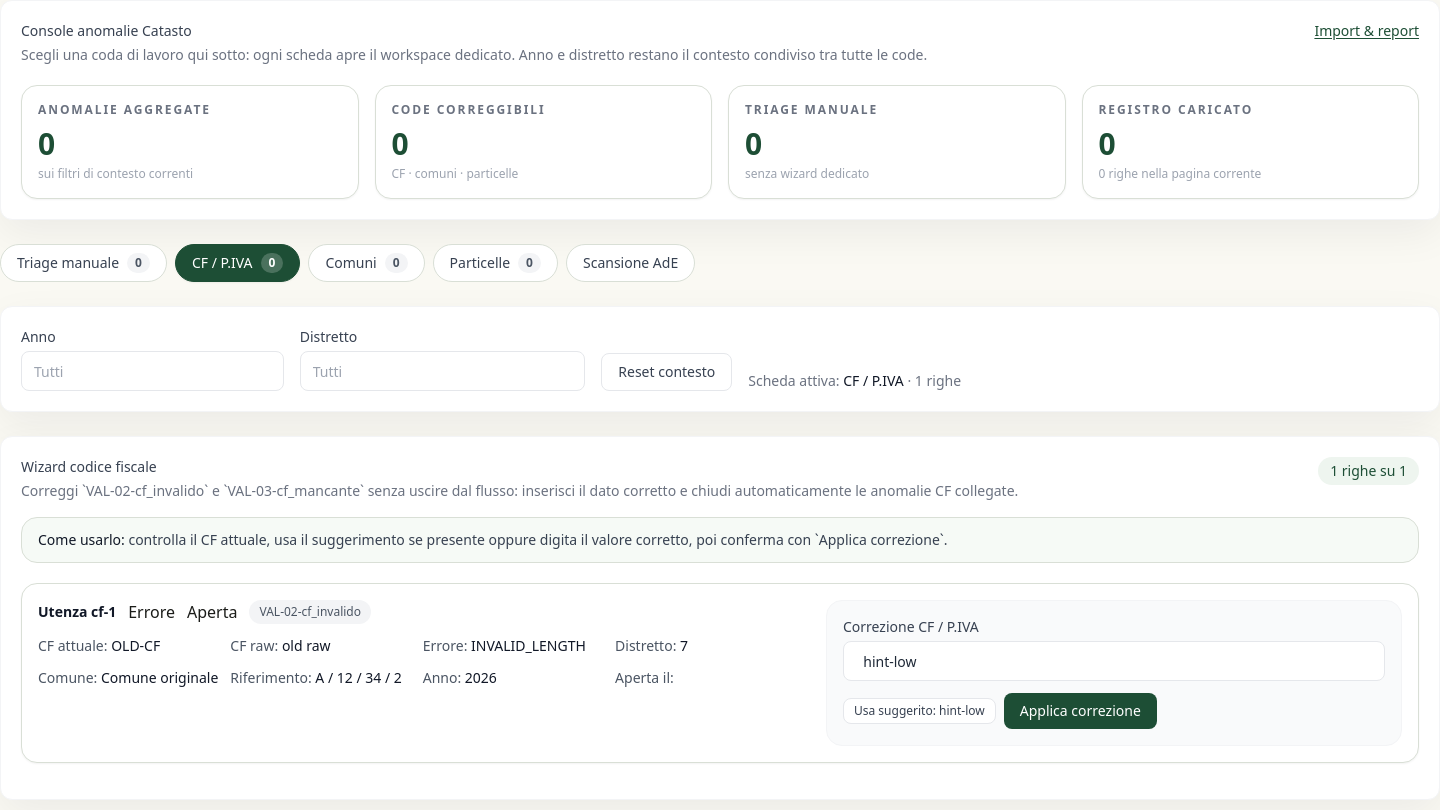
Scenario: R17 original Catasto CF wizard public transitions › uppercases typed edits, restores the raw suggestion on selection and normalizes the literal apply payload
Check: the text "Utenza cf-1" is shown, box left=38, top=602, right=116, bottom=622
Check: the button "Reset contesto" is enabled, box left=601, top=353, right=732, bottom=391
Replace the text in the field labelled "Correzione CF / P.IVA" with "  typed-low  " at (1114, 661), box left=843, top=641, right=1385, bottom=681
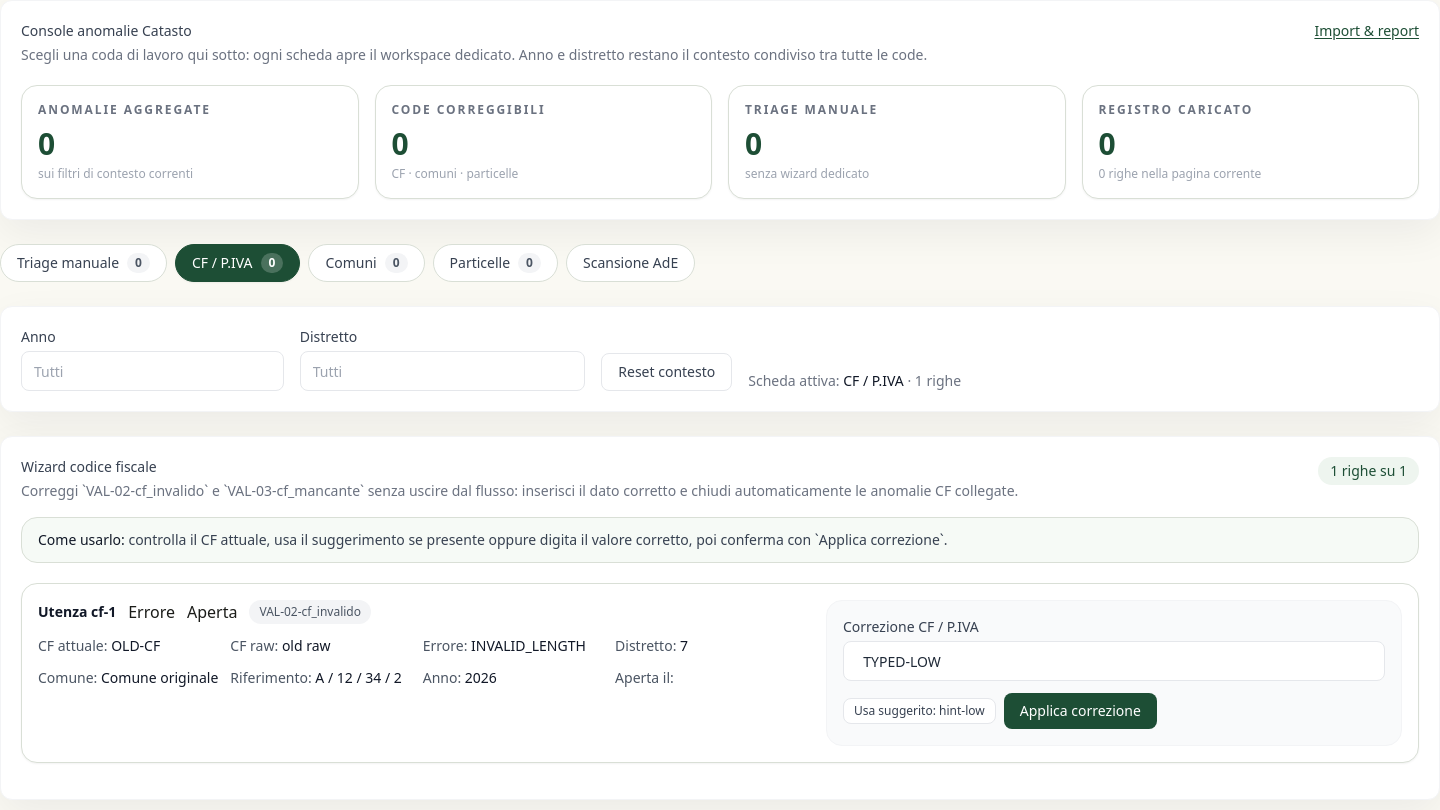
Click the button "Usa suggerito: hint-low" at (919, 711), box left=843, top=698, right=996, bottom=724
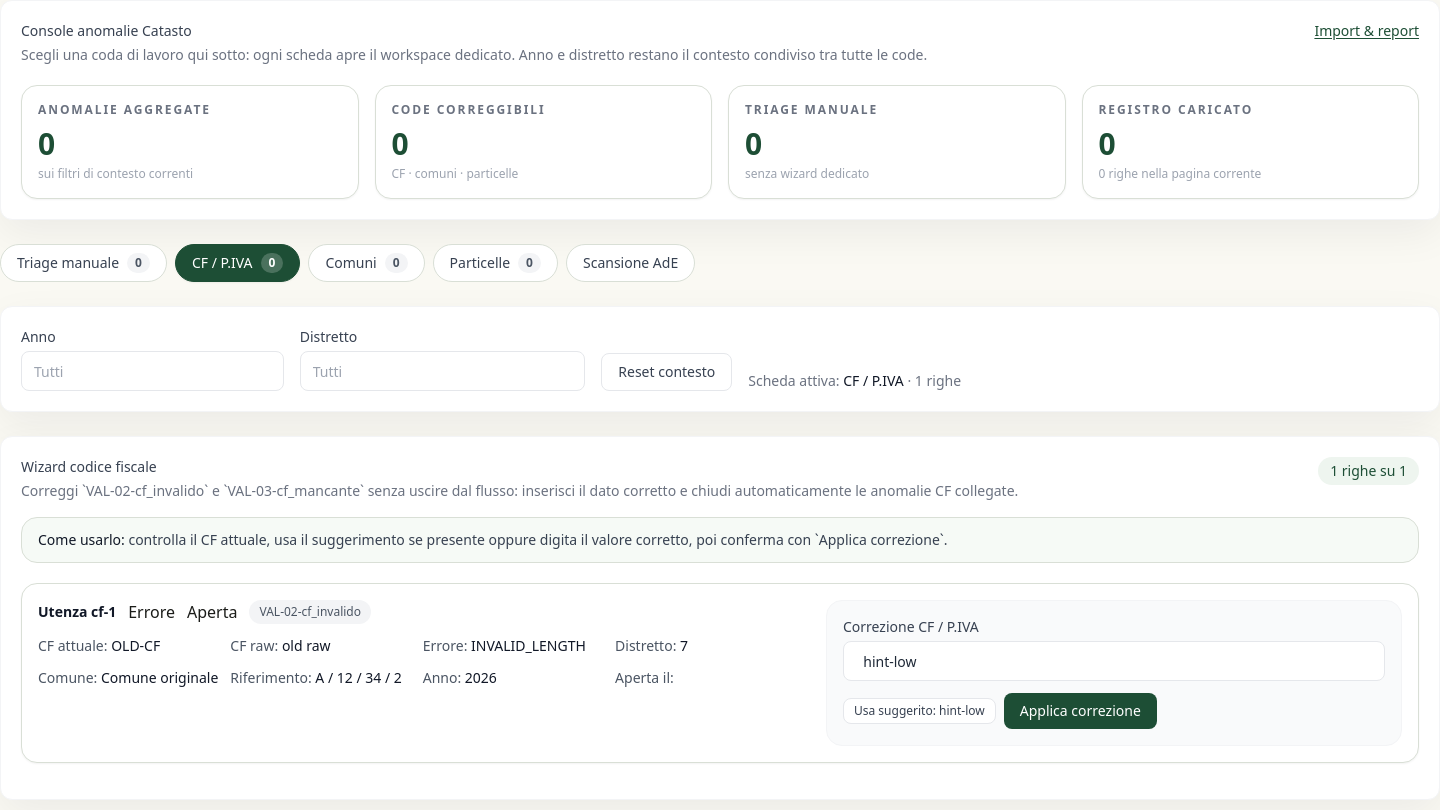
Check: the field labelled "Correzione CF / P.IVA" holds "  hint-low  ", box left=843, top=641, right=1385, bottom=681
Click the button "Applica correzione" at (1080, 711), box left=1004, top=693, right=1157, bottom=729
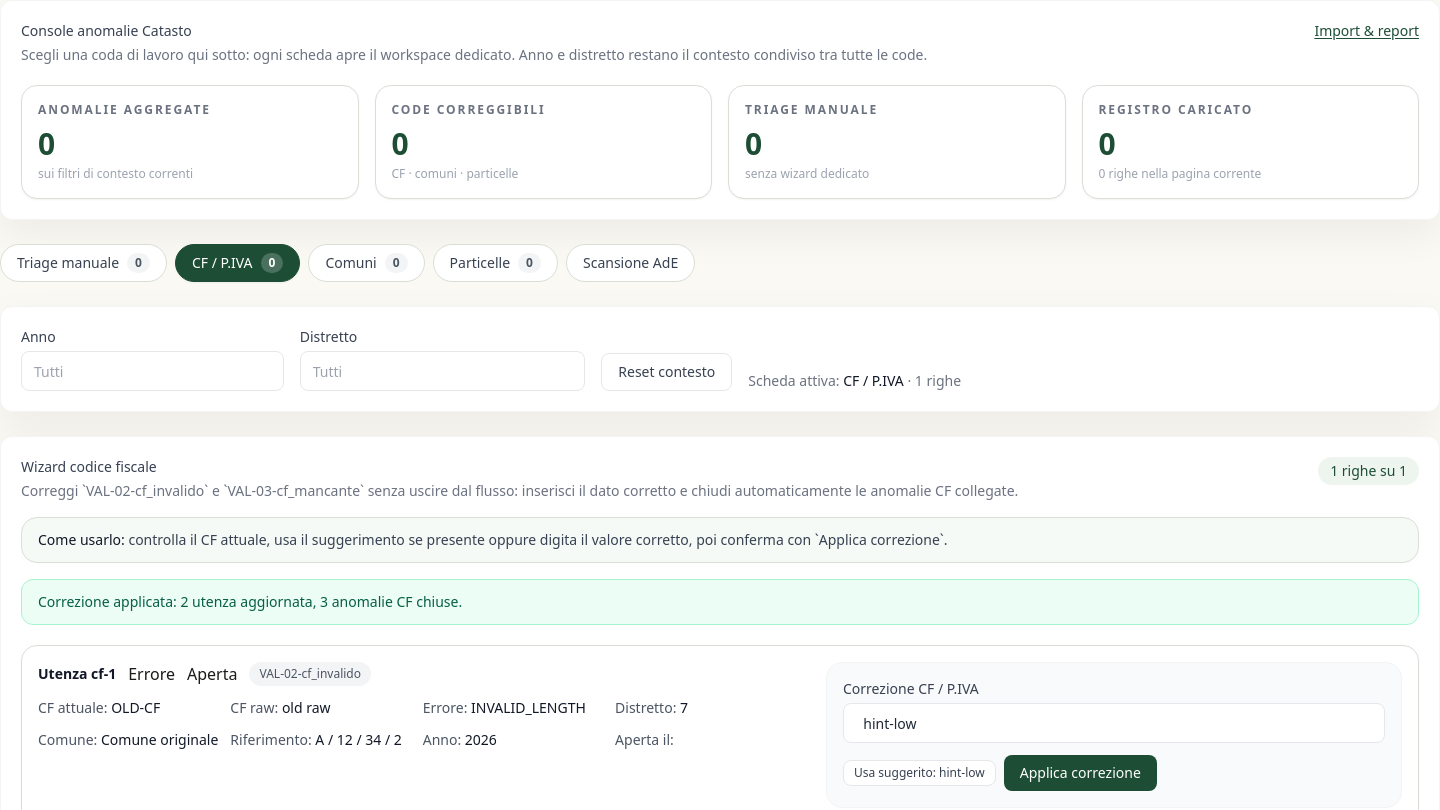
Check: the button "Applica correzione" is enabled, box left=1004, top=755, right=1157, bottom=791
Check: the text "Correzione applicata: 2 utenza aggiornata, 3 anomalie CF chiuse." is shown, box left=21, top=579, right=1419, bottom=625
